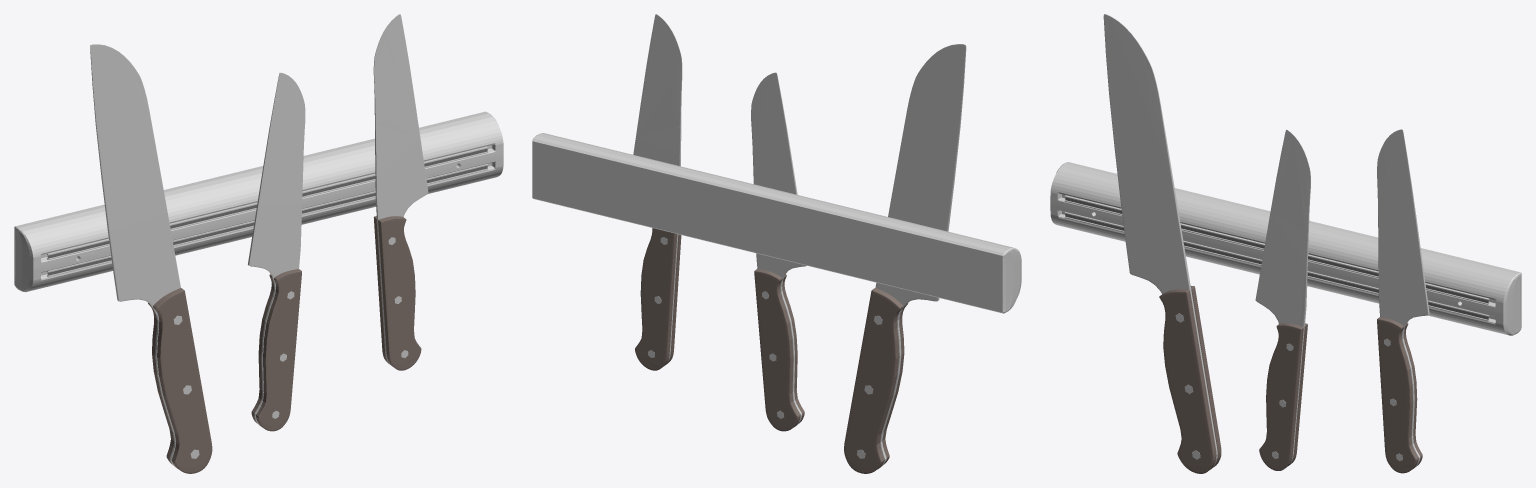
File: sweethome3d-blendswap-cc-0-knife-stand.glb
3 views of the same model, side by side, from view 1: azimuth 30°, elevation 25°; view 2: azimuth 150°, elevation 25°; view 3: azimuth 330°, elevation 25° (orthographic). The views are drawn at different scales.
Parts seen in each view (by area): view 1: Cube.074_Cube.000, Plane.010_Plane.017, Plane.007_Plane.012, Plane.013_Plane.020, Plane.009_Plane.016, Plane.008_Plane.013, Plane.012_Plane.019, Cube.077_Cube.098, Cube.078_Cube.099, Cube.075_Cube.094, Cube.080_Cube.101, Cube.076_Cube.095 (+1 smaller); view 2: Cube.074_Cube.000, Plane.010_Plane.017, Plane.009_Plane.016, Plane.013_Plane.020, Plane.008_Plane.013, Plane.007_Plane.012, Plane.012_Plane.019; view 3: Cube.074_Cube.000, Plane.010_Plane.017, Plane.013_Plane.020, Plane.007_Plane.012, Plane.009_Plane.016, Plane.012_Plane.019, Plane.008_Plane.013, Cube.077_Cube.098, Cube.078_Cube.099, Cube.075_Cube.094, Cube.080_Cube.101, Cube.076_Cube.095 (+1 smaller).
Part boxes in pixels (x1,y1,x2,y2): Cube.074_Cube.000: (14, 111, 503, 292); Plane.010_Plane.017: (90, 44, 180, 469); Plane.007_Plane.012: (248, 72, 305, 427); Plane.013_Plane.020: (373, 14, 428, 363); Plane.009_Plane.016: (148, 288, 212, 473); Plane.008_Plane.013: (251, 269, 301, 431); Plane.012_Plane.019: (373, 216, 421, 370); Cube.077_Cube.098: (47, 148, 487, 258); Cube.078_Cube.099: (47, 165, 487, 275); Cube.075_Cube.094: (47, 146, 488, 255); Cube.080_Cube.101: (47, 164, 488, 272); Cube.076_Cube.095: (47, 151, 488, 260); Cube.074_Cube.000: (532, 133, 1021, 313); Plane.010_Plane.017: (875, 44, 966, 468); Plane.009_Plane.016: (844, 288, 908, 473); Plane.013_Plane.020: (633, 14, 682, 362); Plane.008_Plane.013: (754, 269, 804, 431); Plane.007_Plane.012: (751, 72, 806, 426); Plane.012_Plane.019: (635, 228, 681, 370); Cube.074_Cube.000: (1050, 162, 1521, 335); Plane.010_Plane.017: (1103, 14, 1217, 467); Plane.013_Plane.020: (1377, 129, 1429, 468); Plane.007_Plane.012: (1255, 129, 1310, 463); Plane.009_Plane.016: (1159, 286, 1221, 473); Plane.012_Plane.019: (1377, 317, 1422, 473); Plane.008_Plane.013: (1259, 323, 1307, 470); Cube.077_Cube.098: (1065, 197, 1488, 303); Cube.078_Cube.099: (1065, 214, 1488, 319); Cube.075_Cube.094: (1064, 195, 1489, 300); Cube.080_Cube.101: (1064, 212, 1489, 316); Cube.076_Cube.095: (1064, 200, 1489, 304).
Size of the model in its own units: 39.16 by 35.58 by 3.47.
